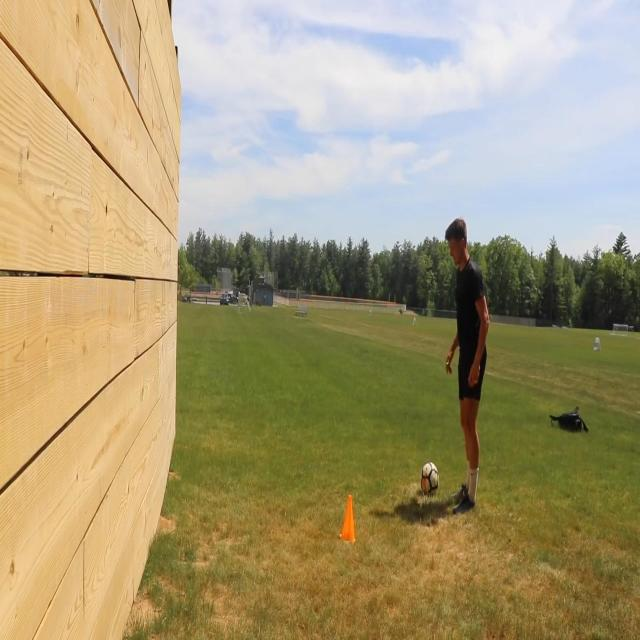Soccer Ball: (420, 460, 439, 496)
